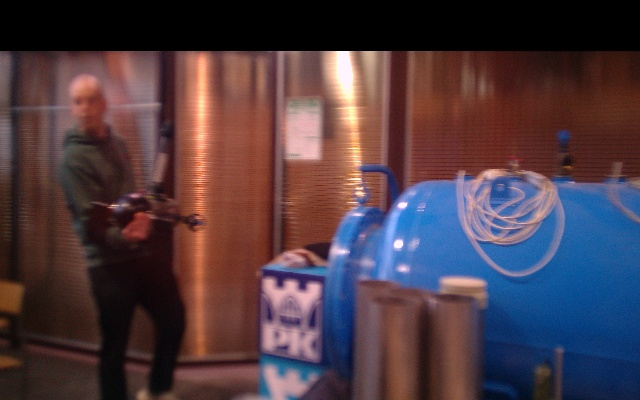black: (151, 147, 170, 189)
